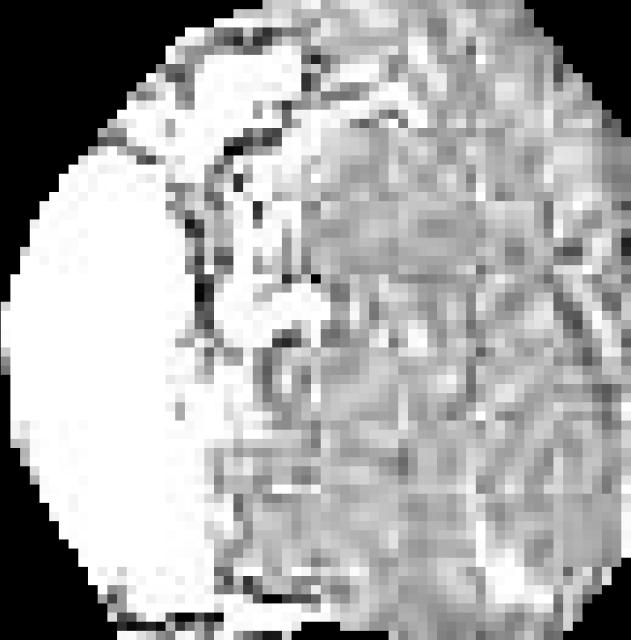tumor_good_chance: (1, 0, 631, 640)
